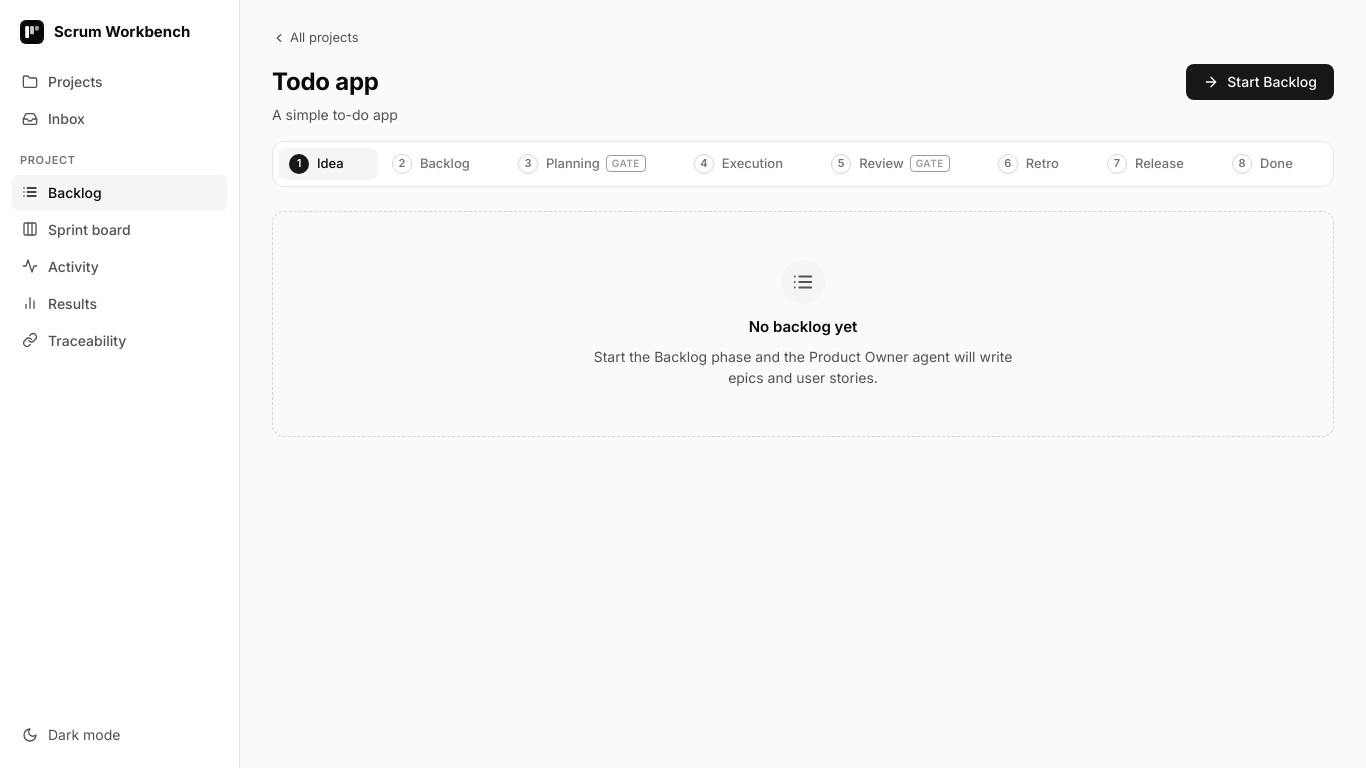
Test case: phase controls › advances to the next phase and marks it current
Click the button "Start Backlog".
click(1260, 82)  # box left=1186, top=64, right=1334, bottom=100
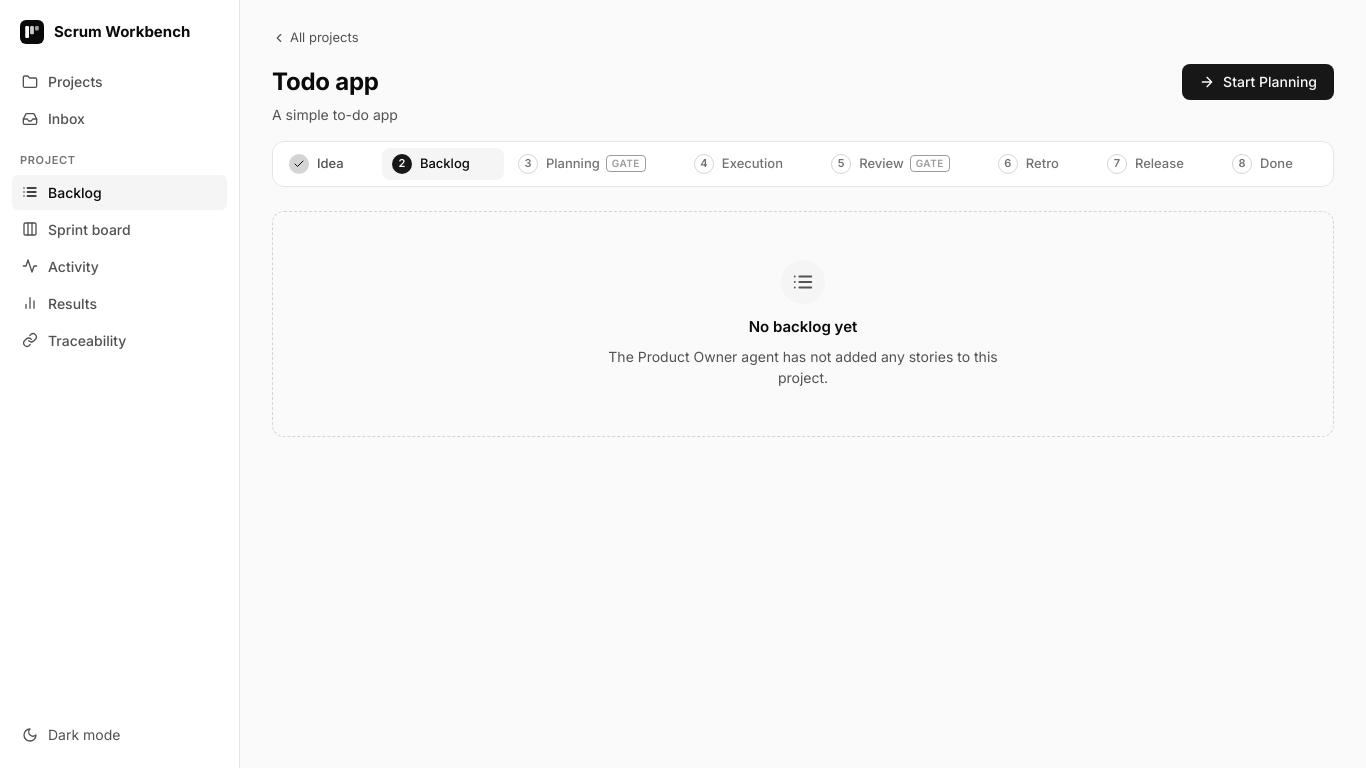
expect the text "Backlog" in the row of "Idea" is shown: met, box left=420, top=155, right=470, bottom=171
expect the button "Start Planning" is shown: met, box left=1182, top=64, right=1334, bottom=100
